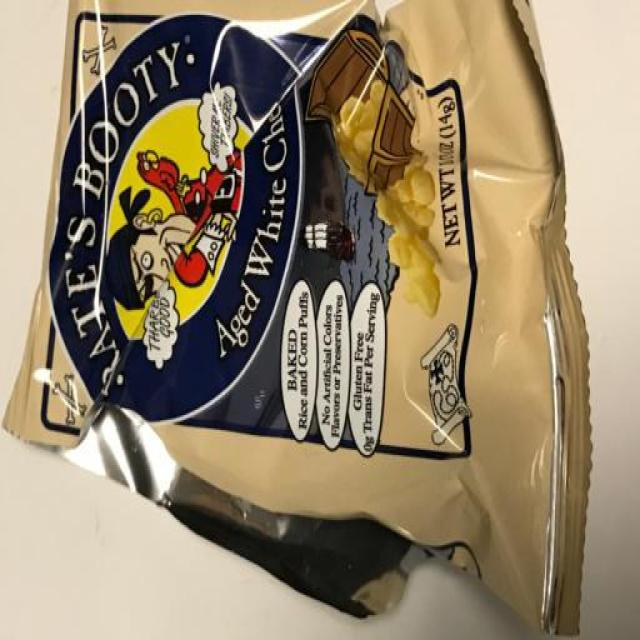inorganic: (6, 0, 591, 640)
